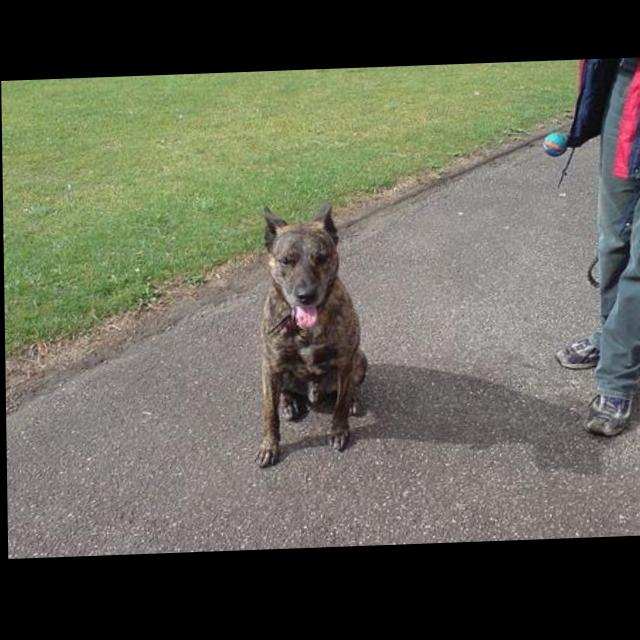staffford: (251, 203, 371, 471)
